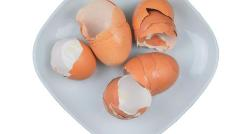organic: (72, 2, 134, 66), (133, 0, 186, 52), (124, 50, 182, 96), (103, 74, 153, 120), (48, 36, 96, 78)
